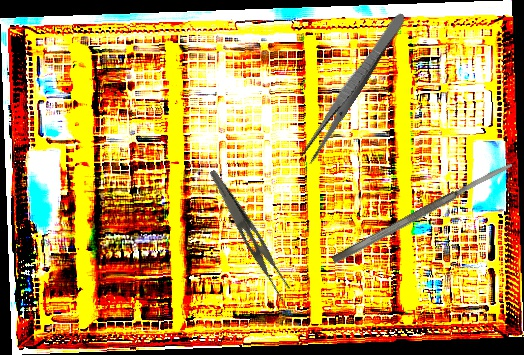Dressing Forceps: (297, 8, 409, 166), (195, 168, 300, 304)
Spatula Surgical: (330, 159, 515, 266)
